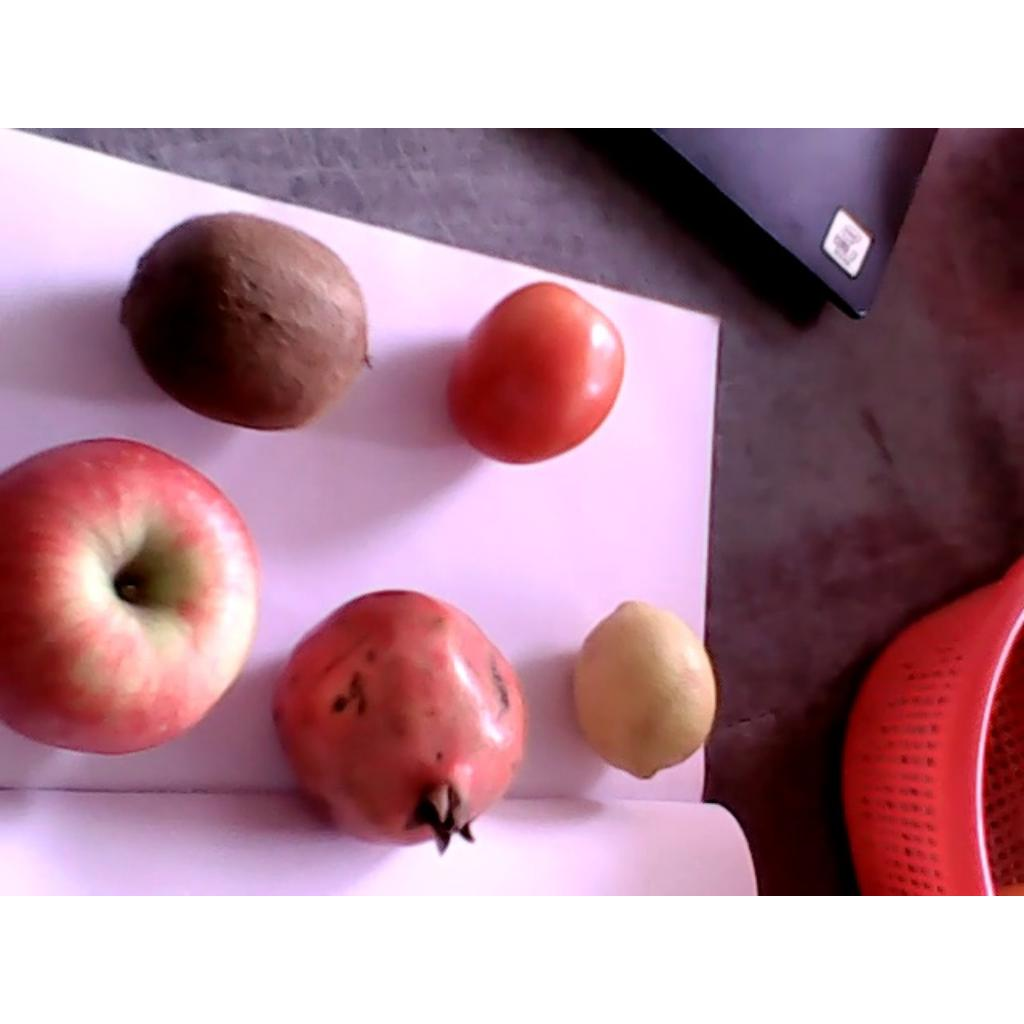apple: (0, 438, 262, 751)
kiwi: (119, 212, 373, 431)
lemon: (571, 600, 718, 780)
pomegranate: (271, 590, 527, 857)
tomato: (448, 281, 623, 466)
